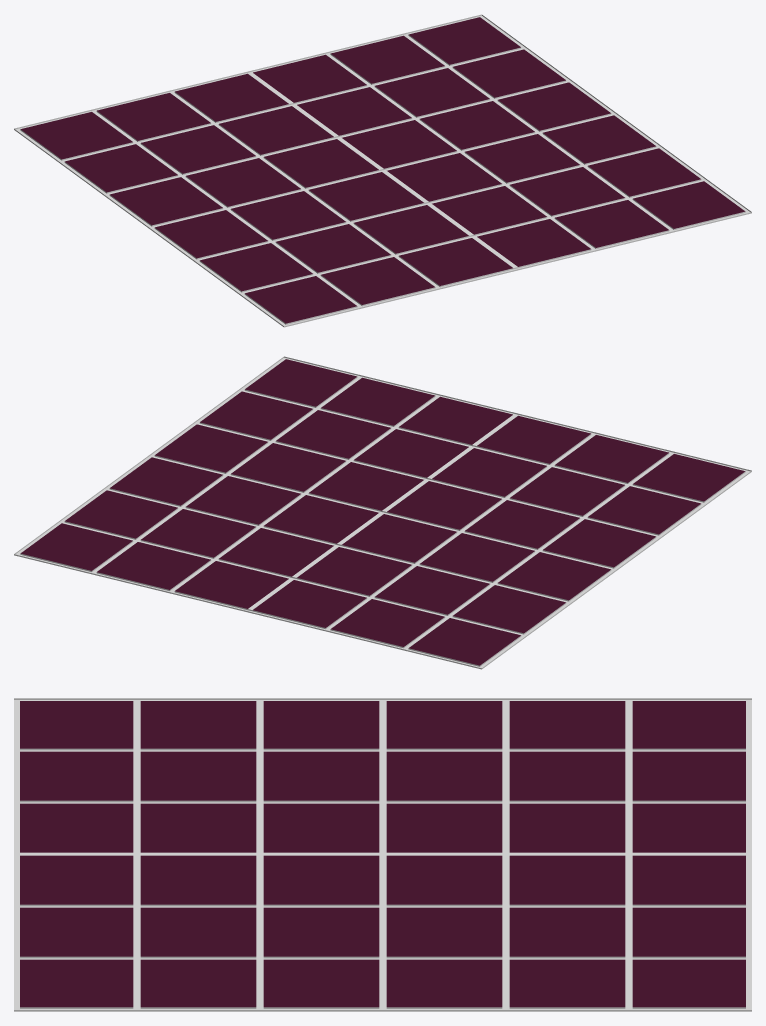
The model's file is floor.fbx.
The picture shows the model from 3 angles, top to bottom: view 1: azimuth 30°, elevation 25°; view 2: azimuth 150°, elevation 25°; view 3: azimuth 270°, elevation 25°; orthographic projection. The views are drawn at different scales.
Parts seen in each view (by area): view 1: Floor; view 2: Floor; view 3: Floor.
Part boxes in pixels (x1,y1,x2,y2): Floor: [14, 14, 751, 327]; Floor: [14, 356, 751, 669]; Floor: [14, 698, 751, 1011].
Size of the model in its own units: 400 by 1 by 400.
